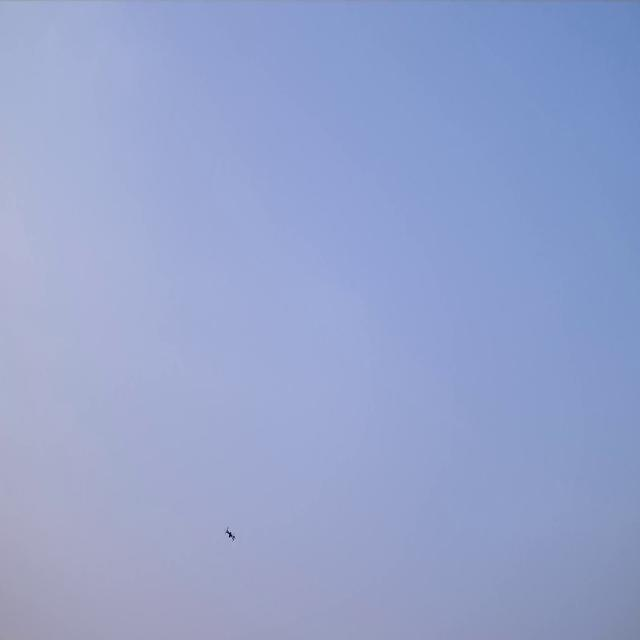UAV: (224, 526, 236, 541)
